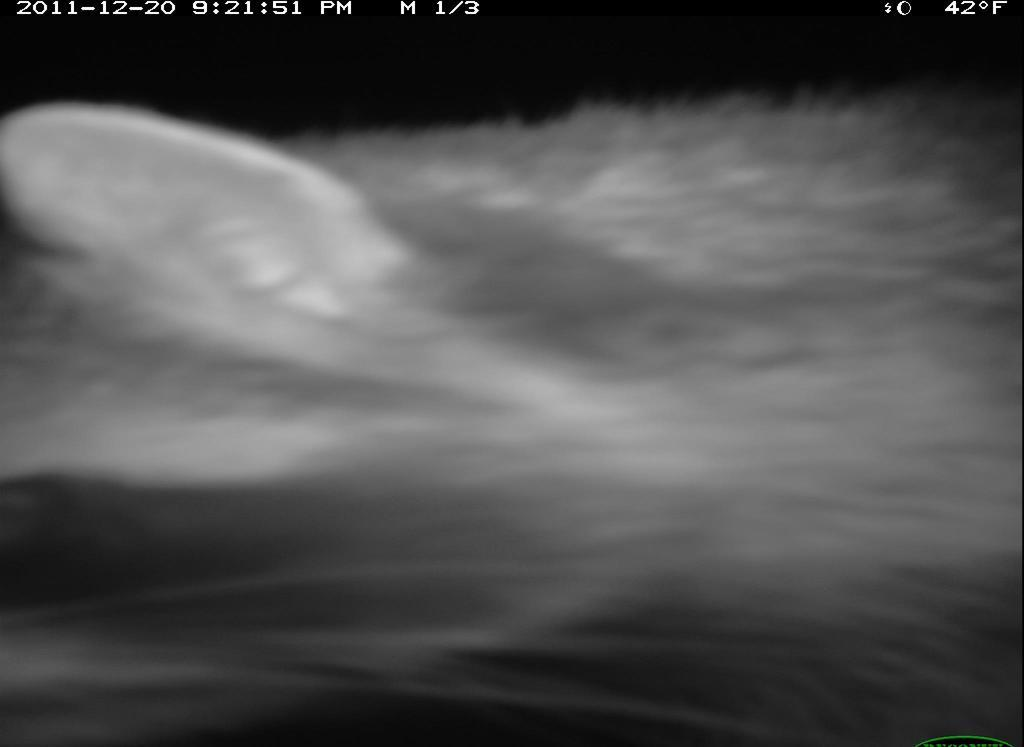raccoon: (4, 98, 1023, 747)
